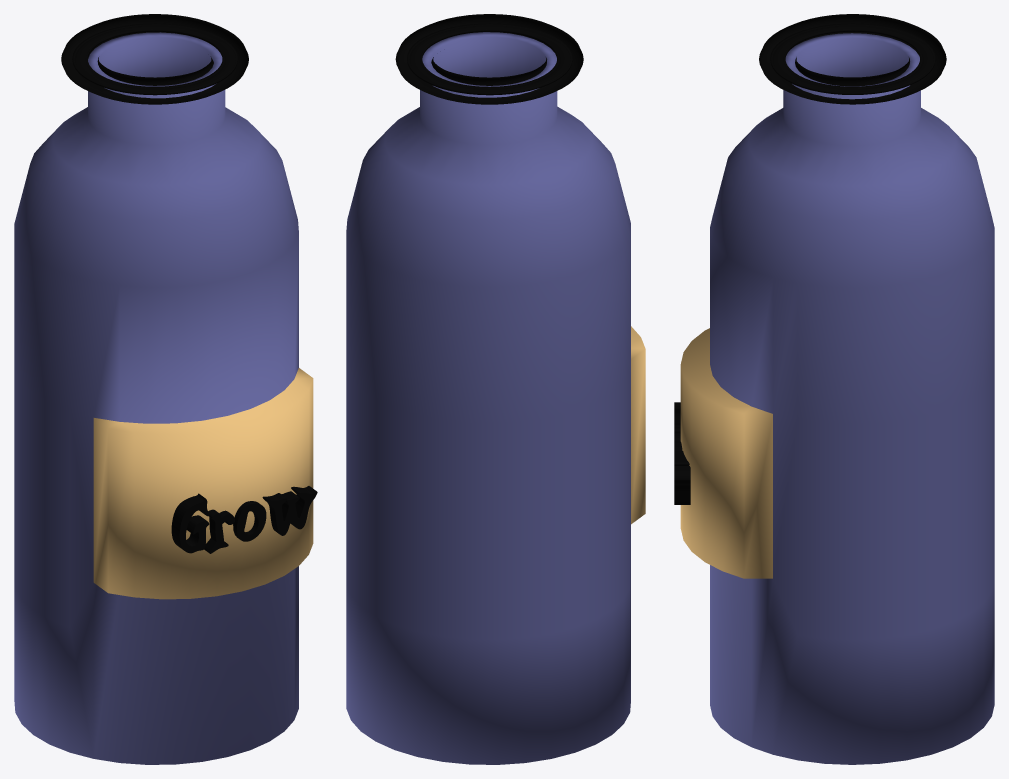
File: grow.fbx
3 views of the same model, side by side, from view 1: azimuth 30°, elevation 25°; view 2: azimuth 150°, elevation 25°; view 3: azimuth 270°, elevation 25° (orthographic).
Parts seen in each view (by area): view 1: Grow Potion; view 2: Grow Potion; view 3: Grow Potion.
Part boxes in pixels (x1,y1,x2,y2): Grow Potion: (14, 14, 317, 764); Grow Potion: (346, 14, 645, 764); Grow Potion: (674, 14, 994, 764).
Size of the model in its own units: 280 by 712 by 315.
